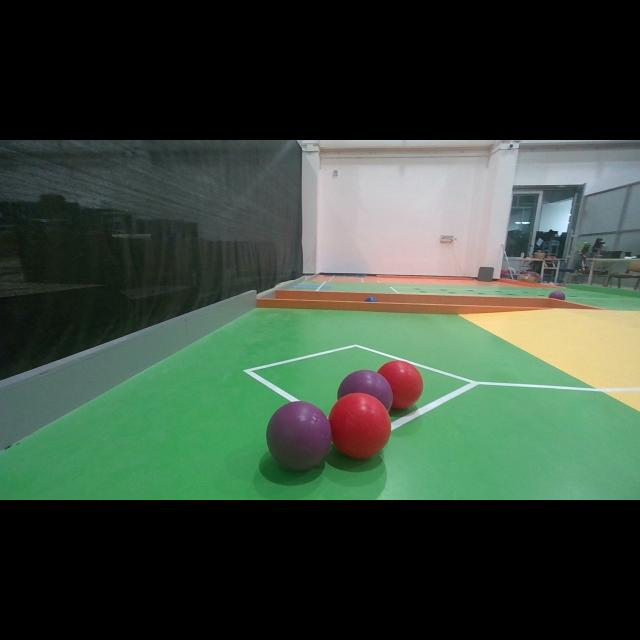P: (266, 402, 330, 471), (335, 366, 399, 416)
R: (328, 392, 392, 458), (377, 361, 423, 409)
